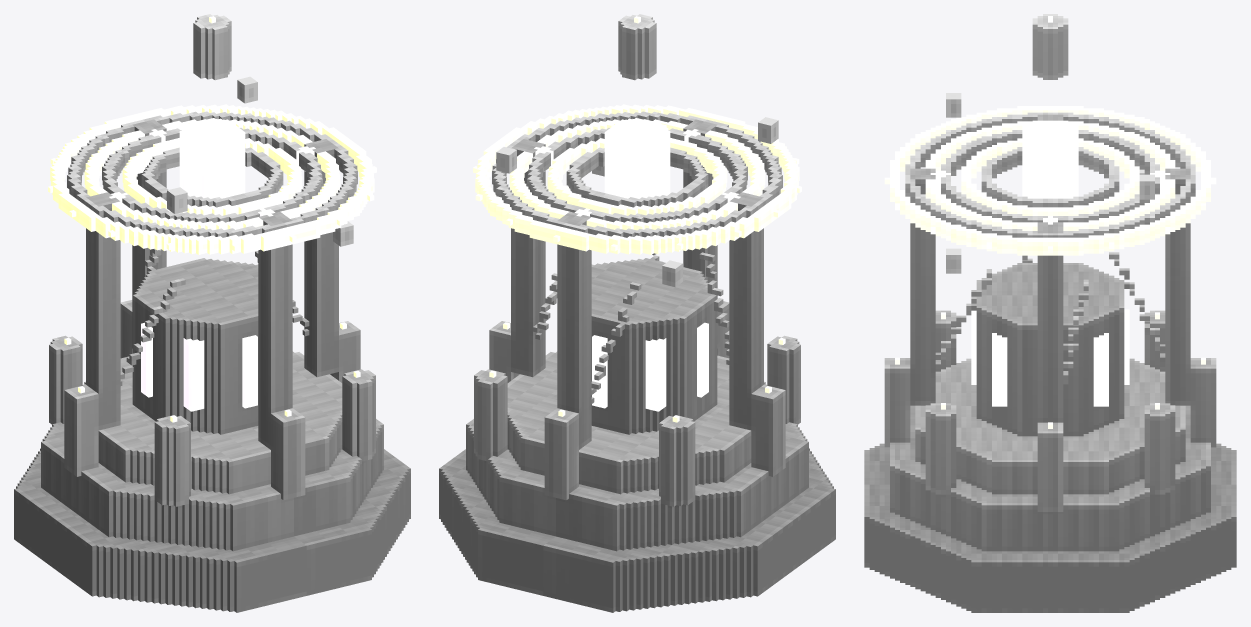
Rendered from reliquary_astral_orrery_monolith.glb.
The picture shows the model from 3 angles, left to right: view 1: azimuth 30°, elevation 25°; view 2: azimuth 150°, elevation 25°; view 3: azimuth 270°, elevation 25°; orthographic projection.
Parts seen in each view (by area): view 1: reliquary_astral_orrery_monolith; view 2: reliquary_astral_orrery_monolith; view 3: reliquary_astral_orrery_monolith.
Boxes of the visible parts, x1,y1,x2,y2 form: reliquary_astral_orrery_monolith: (14,14,410,612); reliquary_astral_orrery_monolith: (439,14,835,612); reliquary_astral_orrery_monolith: (864,14,1236,612).
Size of the model in its own units: 2.56 by 3.92 by 2.56.
